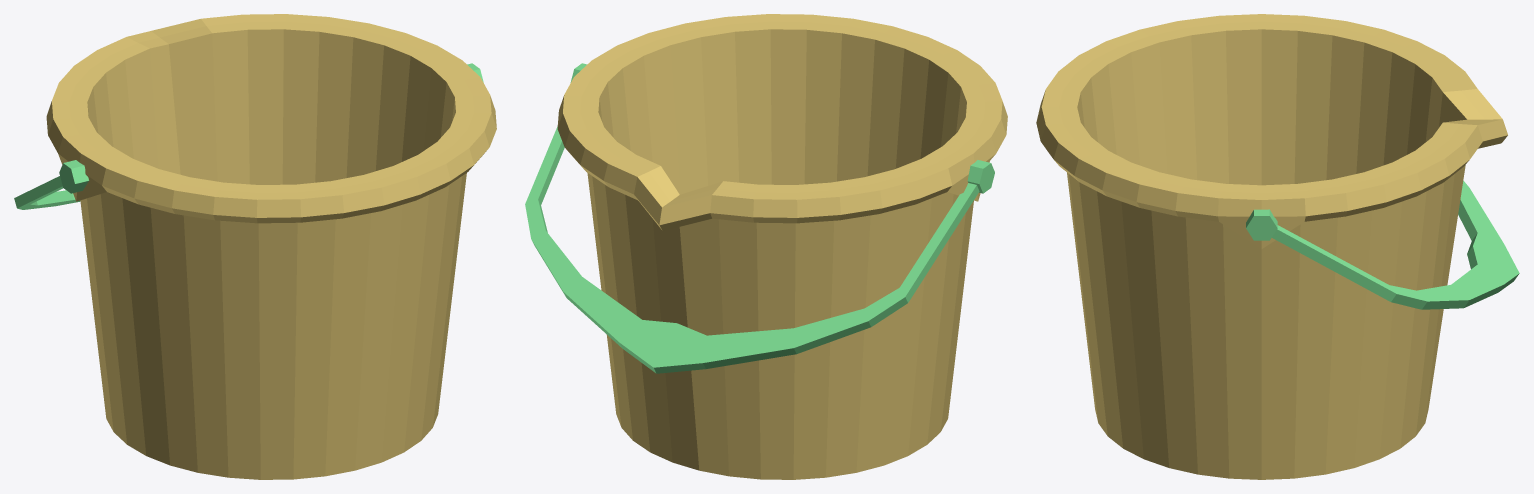
The model's file is Bucket.fbx.
The picture shows the model from 3 angles, left to right: view 1: azimuth 30°, elevation 25°; view 2: azimuth 150°, elevation 25°; view 3: azimuth 270°, elevation 25°; orthographic projection.
Parts seen in each view (by area): view 1: Cylinder, Cube; view 2: Cylinder, Cube; view 3: Cylinder, Cube.
Part boxes in pixels (bbox=[...]): Cylinder: bbox=[46, 14, 496, 479]; Cube: bbox=[14, 63, 483, 209]; Cylinder: bbox=[557, 14, 1007, 479]; Cube: bbox=[525, 63, 994, 373]; Cylinder: bbox=[1036, 14, 1507, 479]; Cube: bbox=[1246, 180, 1519, 309].
Bounding box in the file's own units: 283 × 200 × 290.
